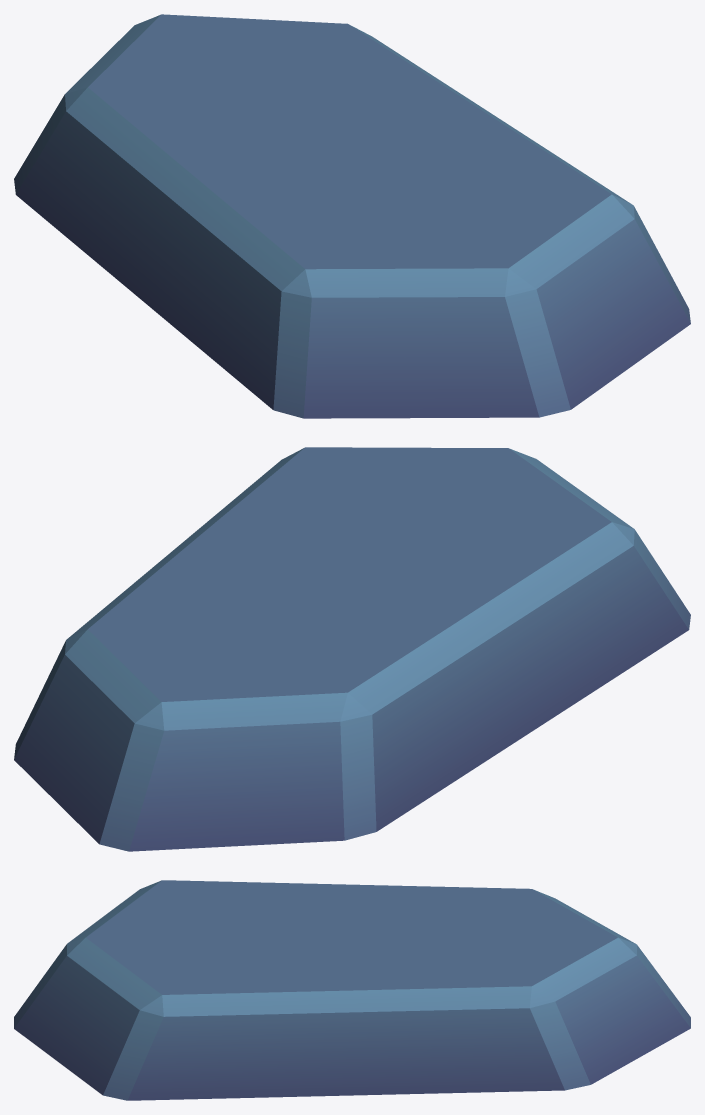
File: Roadstones-3-1.fbx
3 renders of one model, top to bottom at view 1: azimuth 30°, elevation 25°; view 2: azimuth 150°, elevation 25°; view 3: azimuth 270°, elevation 25°, orthographic. The views are drawn at different scales.
Parts seen in each view (by area): view 1: Roadstones-3-1; view 2: Roadstones-3-1; view 3: Roadstones-3-1.
Part boxes in pixels (x1=…): Roadstones-3-1: x1=14, y1=14, x2=690, y2=418; Roadstones-3-1: x1=14, y1=447, x2=690, y2=851; Roadstones-3-1: x1=14, y1=880, x2=690, y2=1100.
Bounding box in the file's own units: 70.46 × 18.02 × 129.
